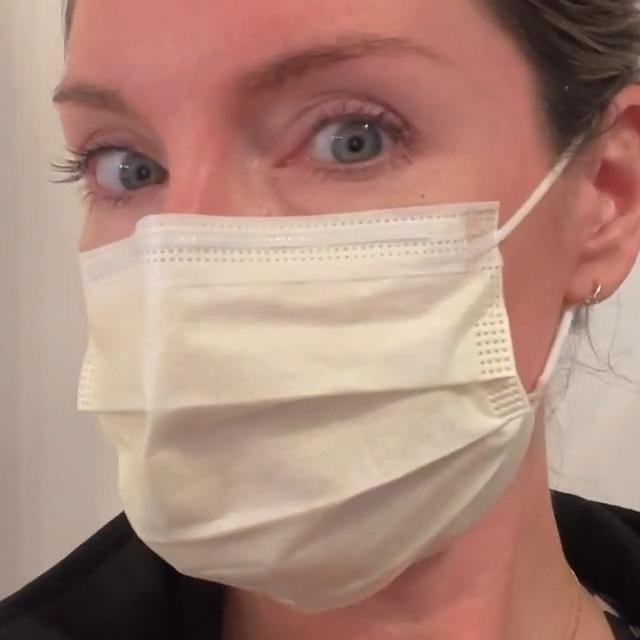Mask: (69, 127, 593, 614)
Person: (0, 0, 640, 640)
